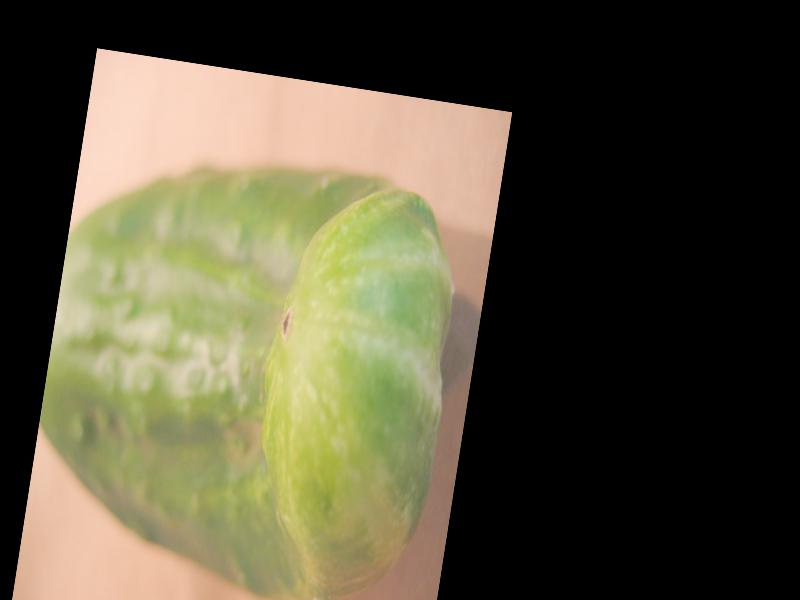Cucumber: (18, 129, 474, 600)
